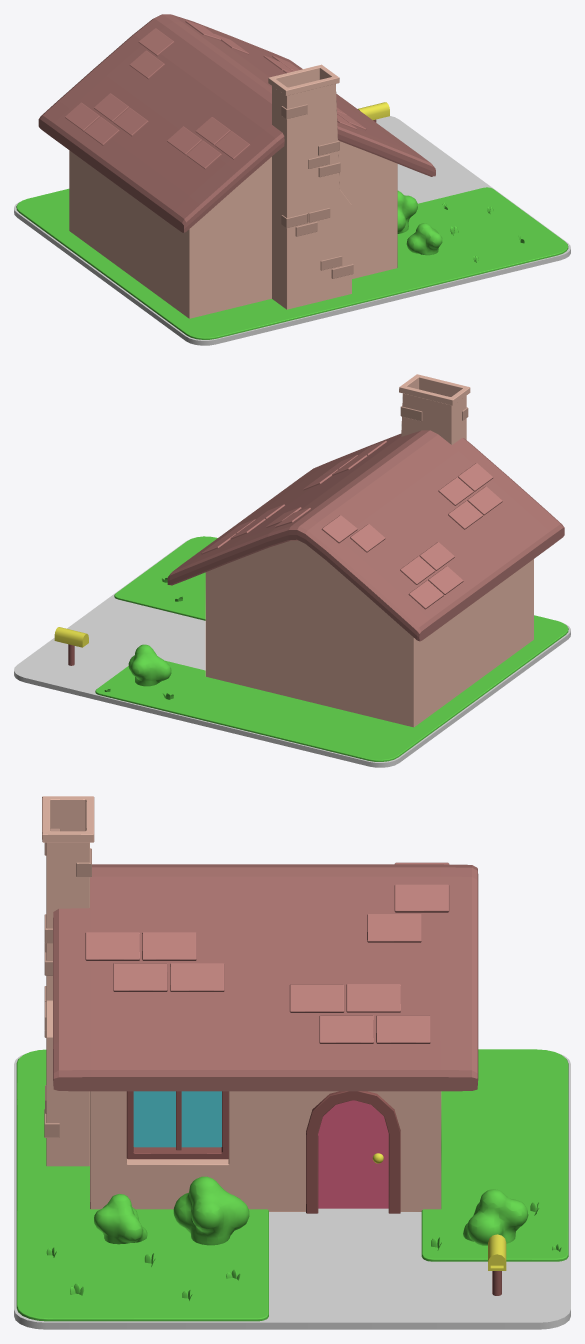
The model's file is LPHouse.fbx.
3 renders of one model, top to bottom at view 1: azimuth 30°, elevation 25°; view 2: azimuth 150°, elevation 25°; view 3: azimuth 270°, elevation 25°, orthographic. The views are drawn at different scales.
Visible parts, largest first — view 1: 002.Roof, 001.House, 010.Grass, 008.Chimney, 009.Ground, Mball, Plane.005, Plane.008, Plane.004, Plane.002, Plane.007, Plane (+4 smaller); view 2: 001.House, 002.Roof, 010.Grass, 009.Ground, 008.Chimney, Mball, Plane.005, Plane.001, Plane.004, Plane.009, Plane.007, Plane.008 (+5 smaller); view 3: 002.Roof, 010.Grass, 009.Ground, 001.House, 008.Chimney, Mball, 004.Door, 003.DoorFrame, 006.WindowPanel, Plane.005, Plane.003, Plane.002 (+8 smaller).
Boxes of the visible parts, left/top/right/bottom form: 002.Roof: left=38, top=14, right=435, bottom=232; 001.House: left=69, top=141, right=397, bottom=318; 010.Grass: left=16, top=187, right=568, bottom=339; 008.Chimney: left=268, top=64, right=351, bottom=309; 009.Ground: left=14, top=116, right=570, bottom=345; Mball: left=397, top=190, right=442, bottom=255; Plane.005: left=138, top=20, right=220, bottom=56; Plane.008: left=129, top=34, right=248, bottom=79; Plane.004: left=94, top=55, right=293, bottom=121; Plane.002: left=186, top=111, right=365, bottom=169; Plane.007: left=65, top=55, right=299, bottom=131; Plane: left=215, top=114, right=356, bottom=159; 001.House: left=205, top=540, right=533, bottom=727; 002.Roof: left=167, top=430, right=564, bottom=641; 010.Grass: left=95, top=536, right=568, bottom=761; 009.Ground: left=14, top=539, right=570, bottom=767; 008.Chimney: left=399, top=374, right=470, bottom=444; Mball: left=128, top=644, right=171, bottom=686; Plane.005: left=275, top=507, right=357, bottom=543; Plane.001: left=332, top=455, right=473, bottom=505; Plane.004: left=230, top=518, right=435, bottom=584; Plane.009: left=303, top=469, right=483, bottom=529; Plane.007: left=201, top=533, right=443, bottom=609; Plane.008: left=266, top=507, right=385, bottom=552; 002.Roof: left=53, top=864, right=478, bottom=1091; 010.Grass: left=16, top=1049, right=568, bottom=1321; 009.Ground: left=14, top=1054, right=570, bottom=1329; 001.House: left=90, top=1091, right=441, bottom=1211; 008.Chimney: left=42, top=796, right=94, bottom=1166; Mball: left=94, top=1176, right=528, bottom=1245; 004.Door: left=318, top=1100, right=388, bottom=1208; 003.DoorFrame: left=306, top=1091, right=400, bottom=1213; 006.WindowPanel: left=126, top=1091, right=228, bottom=1159; Plane.005: left=394, top=862, right=449, bottom=912; Plane.003: left=289, top=984, right=344, bottom=1012; Plane.002: left=113, top=963, right=167, bottom=991.
Bounding box in the file's own units: 1231 × 717 × 1065.
